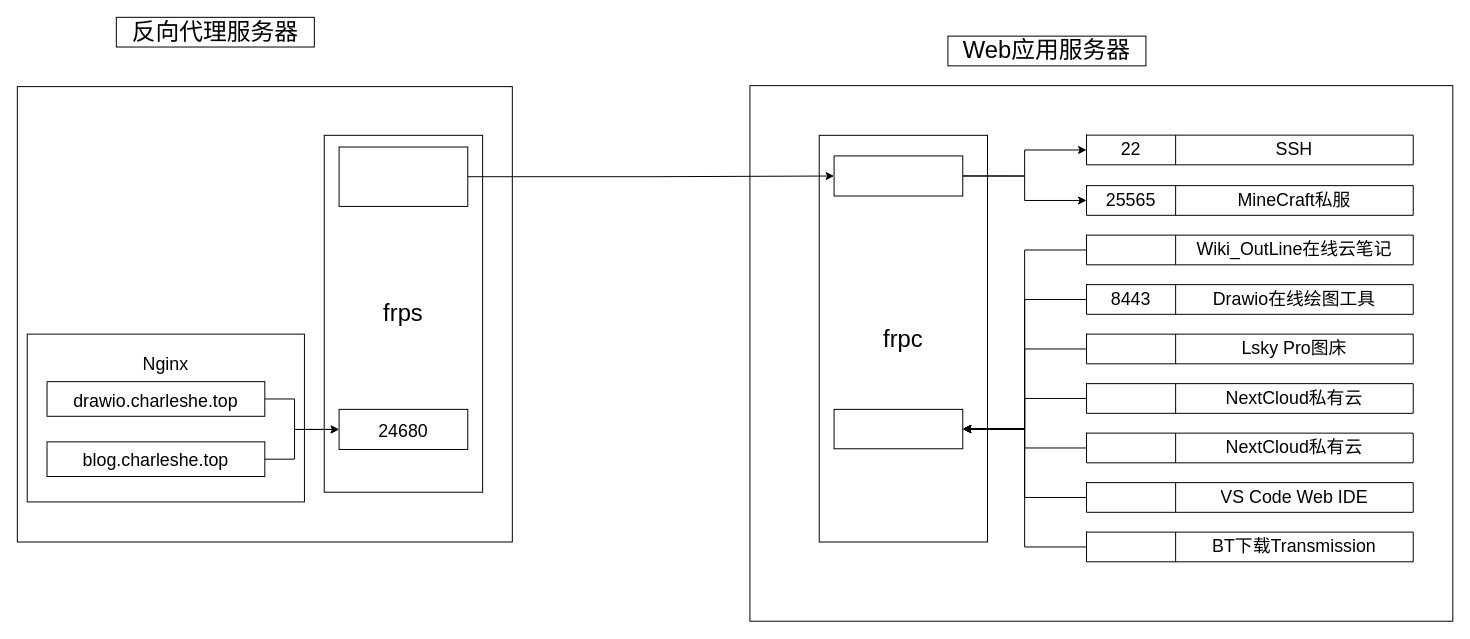
Image size: 1470x639. Some labels were removed from this diagram. Here are the shapes that lost their labels. From the top down, the centre of each, then its label:
At [403,176]: "220X 25565".
At [898,175]: "TCP接收器".
At [898,428]: "HTTP接收器".
